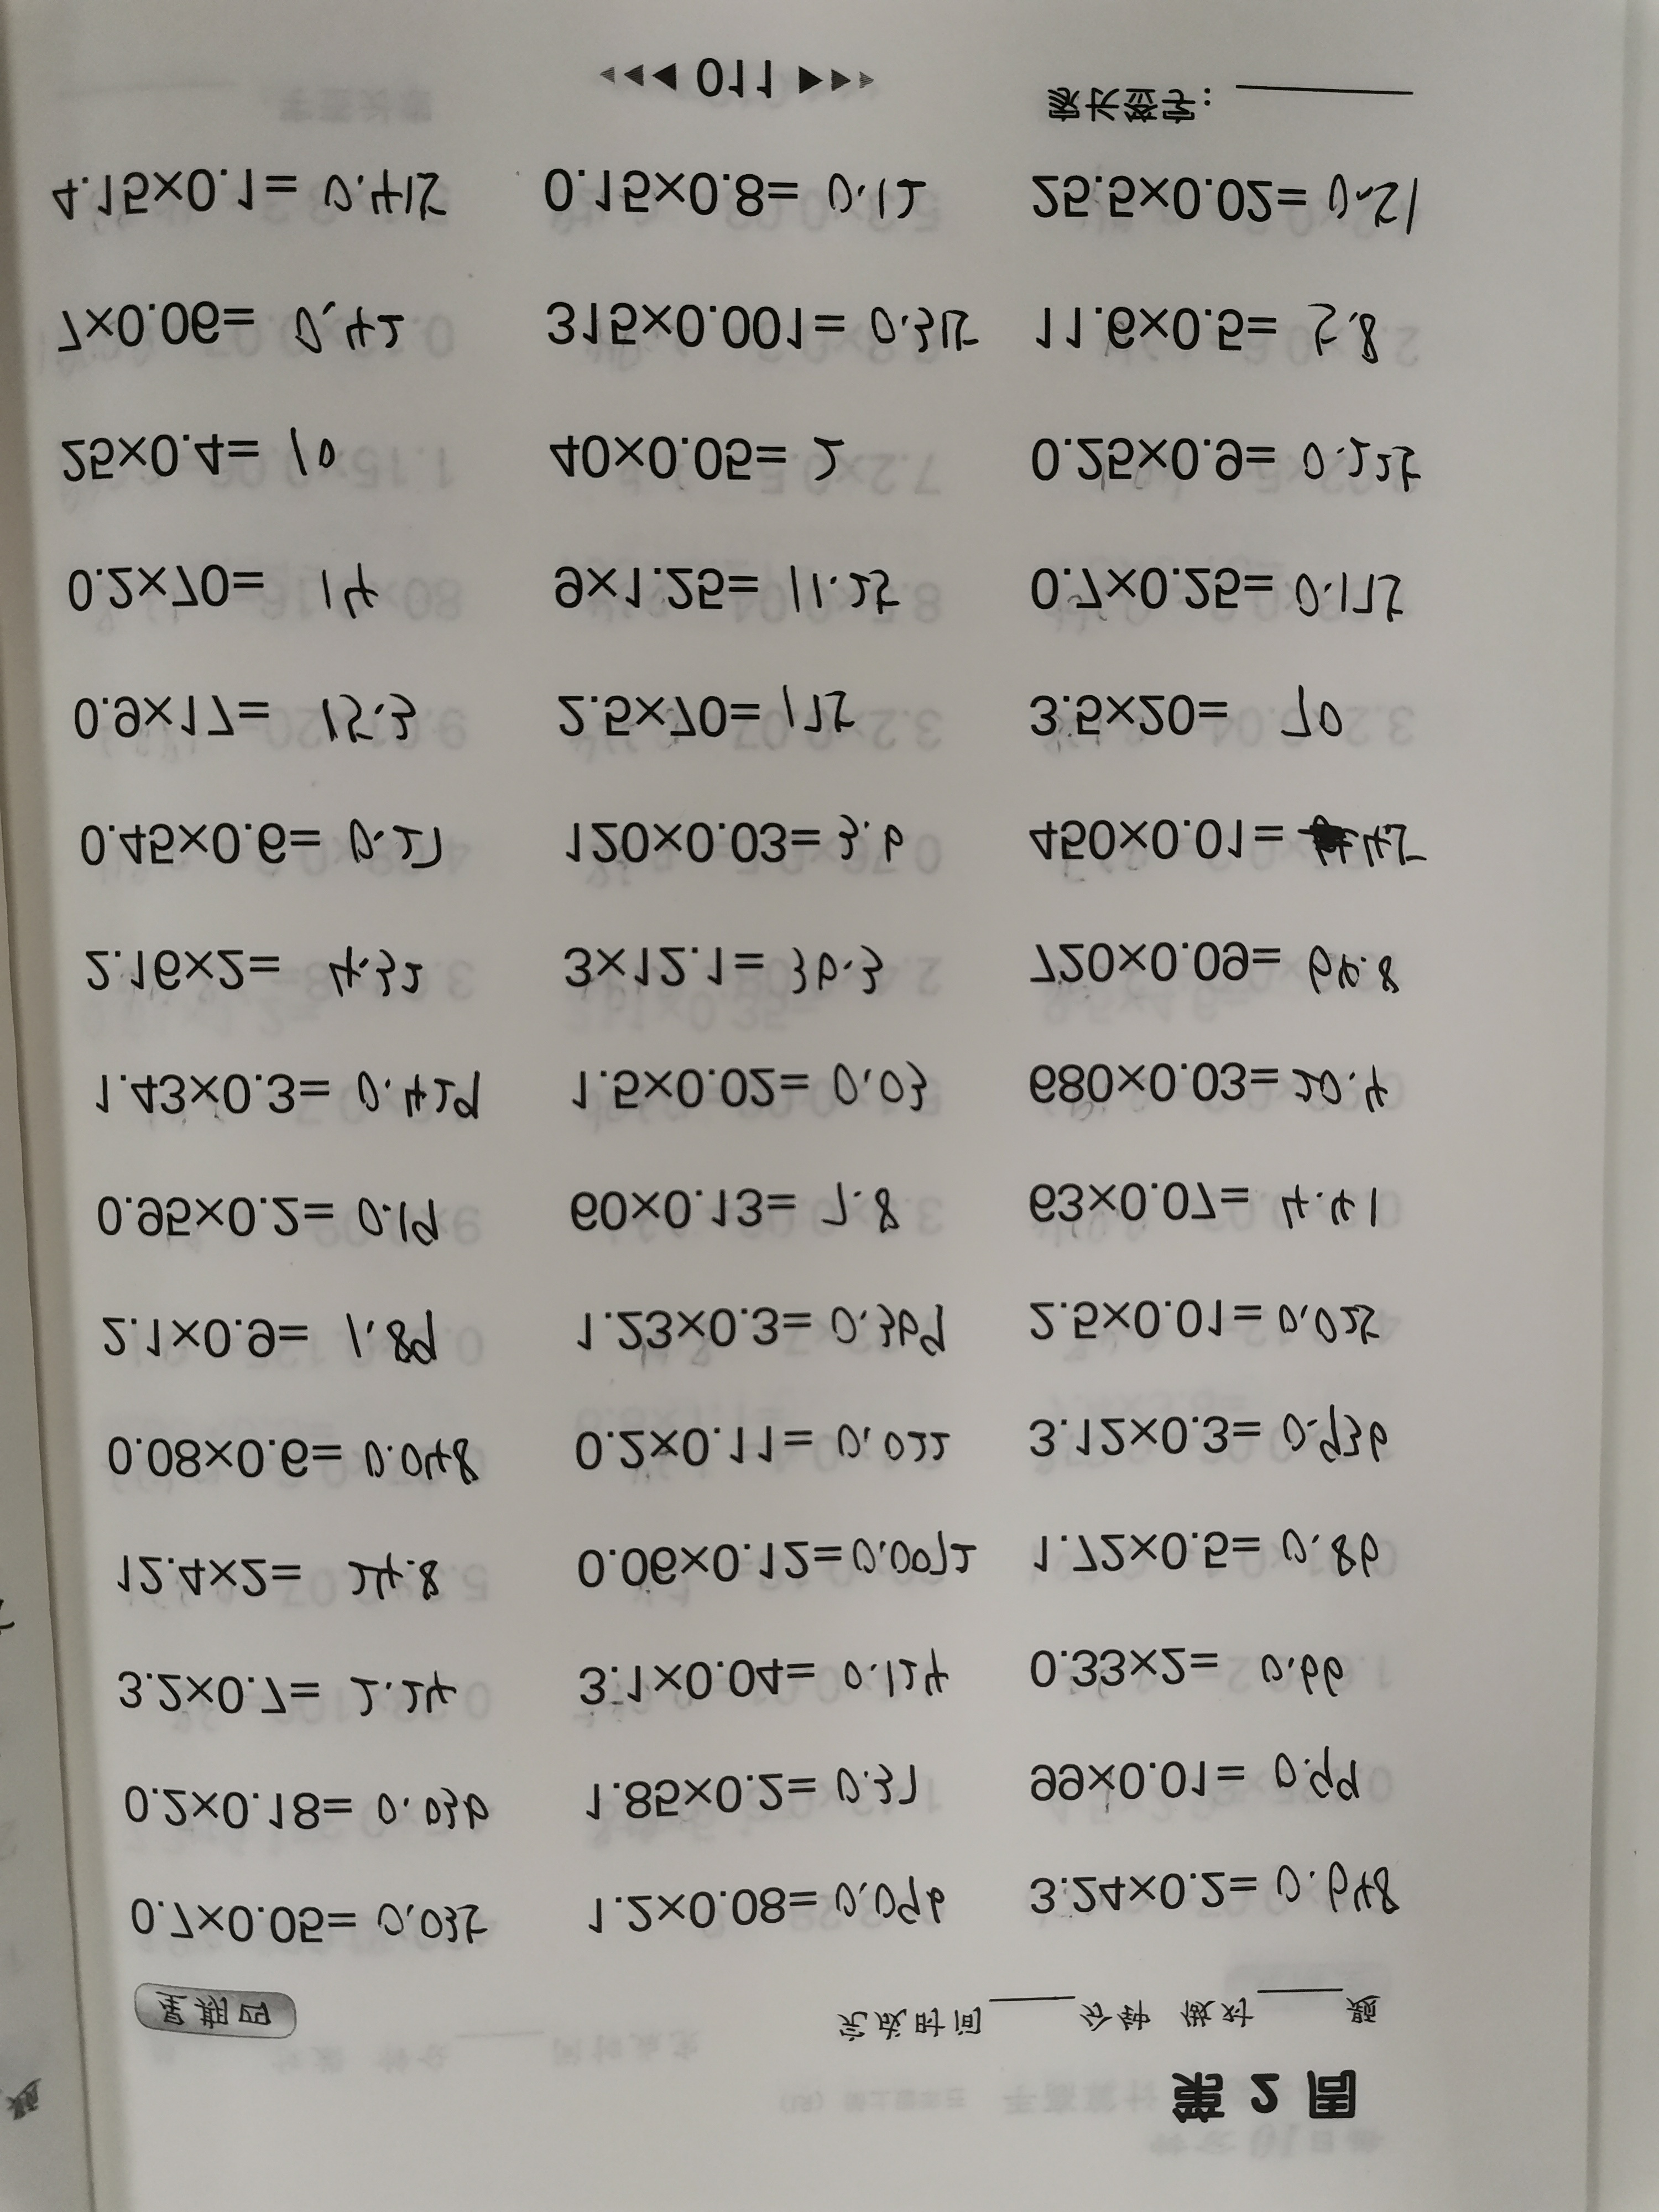equation: (532, 287, 983, 378), (1012, 415, 1443, 509), (1016, 157, 1443, 247), (525, 148, 951, 239), (1011, 801, 1443, 888), (547, 1292, 964, 1379), (563, 1521, 986, 1606), (40, 160, 465, 244), (66, 930, 458, 1021), (547, 794, 927, 885), (579, 1862, 972, 1949), (559, 1416, 974, 1496), (78, 1061, 500, 1139), (568, 1637, 962, 1721), (40, 291, 415, 378), (1018, 1855, 1415, 1937), (68, 812, 465, 894), (1021, 1737, 1380, 1827), (573, 1752, 946, 1839), (552, 1049, 957, 1129), (68, 674, 432, 763), (94, 1298, 457, 1386), (1016, 554, 1417, 634), (1016, 1050, 1408, 1132), (538, 552, 918, 636), (40, 413, 364, 510), (1014, 1285, 1420, 1362), (1011, 1397, 1406, 1475), (73, 1184, 460, 1264), (537, 672, 882, 761), (542, 934, 899, 1019), (1012, 930, 1410, 1007), (51, 552, 397, 639), (115, 1775, 509, 1851), (1019, 294, 1401, 373), (1012, 685, 1373, 766), (1018, 1521, 1398, 1597), (99, 1425, 493, 1498), (559, 1174, 911, 1252), (110, 1660, 467, 1737), (1021, 1170, 1410, 1240), (122, 1888, 502, 1956), (1021, 1637, 1373, 1709), (535, 430, 870, 500), (110, 1543, 455, 1609)
